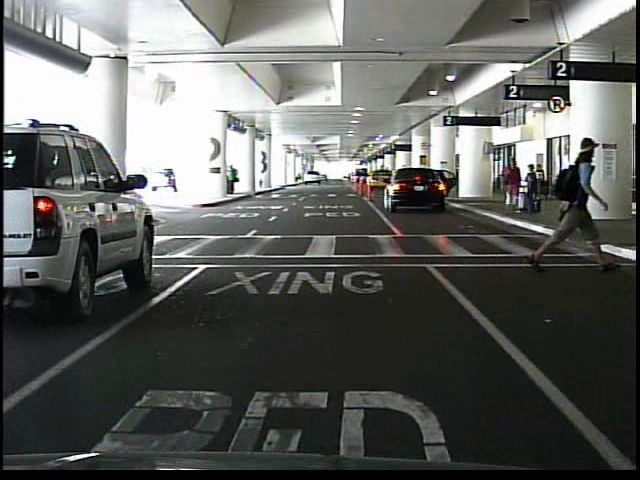person: (530, 135, 615, 270), (497, 157, 519, 210), (522, 162, 540, 213), (535, 164, 546, 199), (227, 164, 238, 196)
